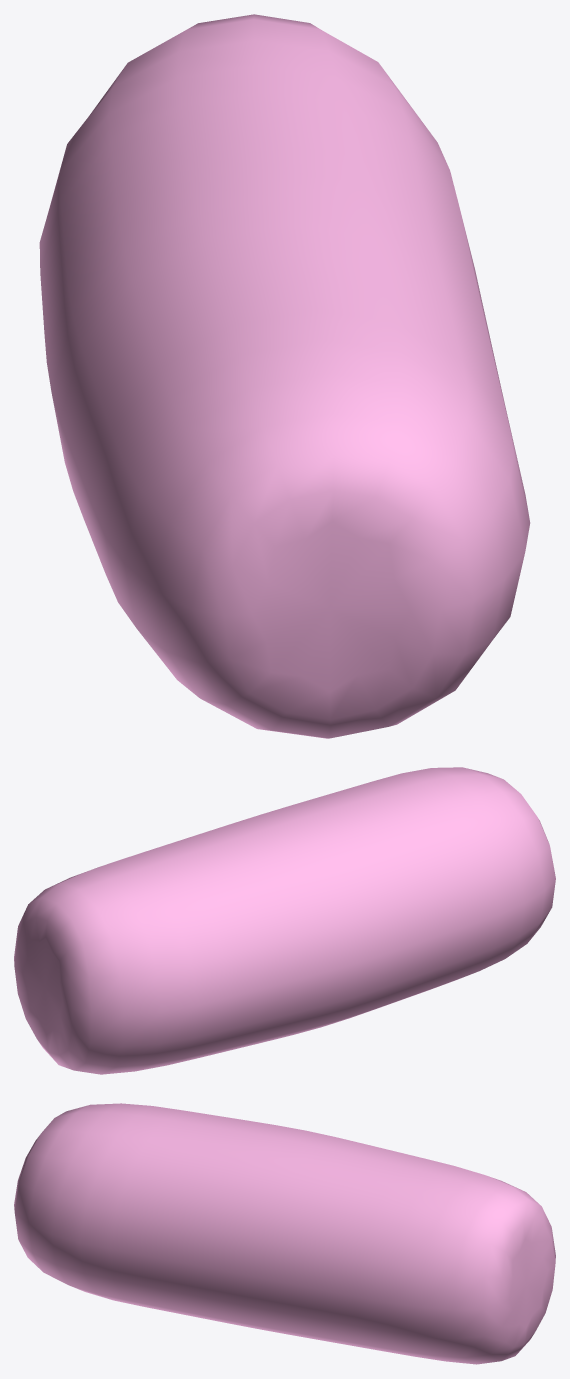
The model's file is Candypowder_A_03.fbx.
3 views of the same model, one above another, from view 1: azimuth 30°, elevation 25°; view 2: azimuth 150°, elevation 25°; view 3: azimuth 270°, elevation 25° (orthographic). The views are drawn at different scales.
Parts seen in each view (by area): view 1: Candypowder_A_03_LOD0; view 2: Candypowder_A_03_LOD0; view 3: Candypowder_A_03_LOD0.
Boxes of the visible parts, x1,y1,x2,y2 form: Candypowder_A_03_LOD0: (39, 14, 530, 738); Candypowder_A_03_LOD0: (14, 767, 555, 1074); Candypowder_A_03_LOD0: (14, 1103, 555, 1364).
Size of what is drawn, in the model's own units: 365 by 206 by 550.
